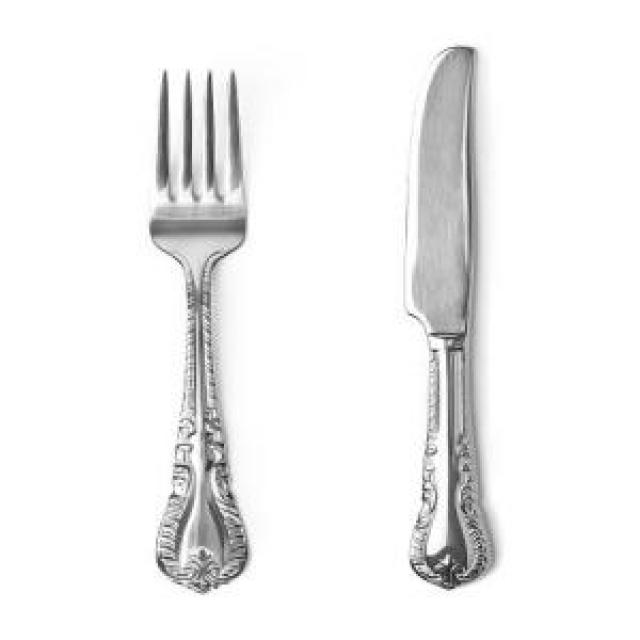knife: (393, 47, 544, 596)
